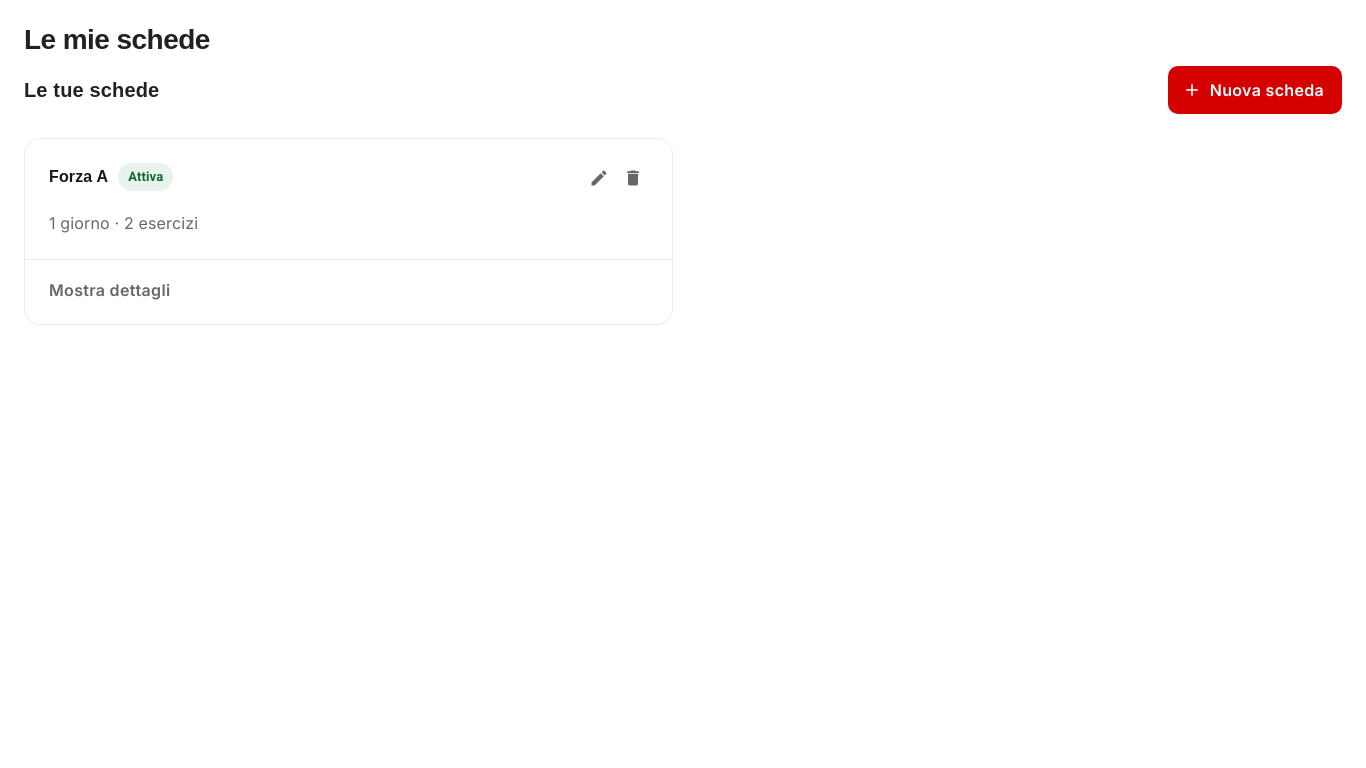
Test: giorno aperto › Modifica ed Elimina di ogni esercizio sono grigi come le frecce, non rosso
Step 1. Click the button "Mostra dettagli" → point(110, 290), box [49, 276, 170, 304]
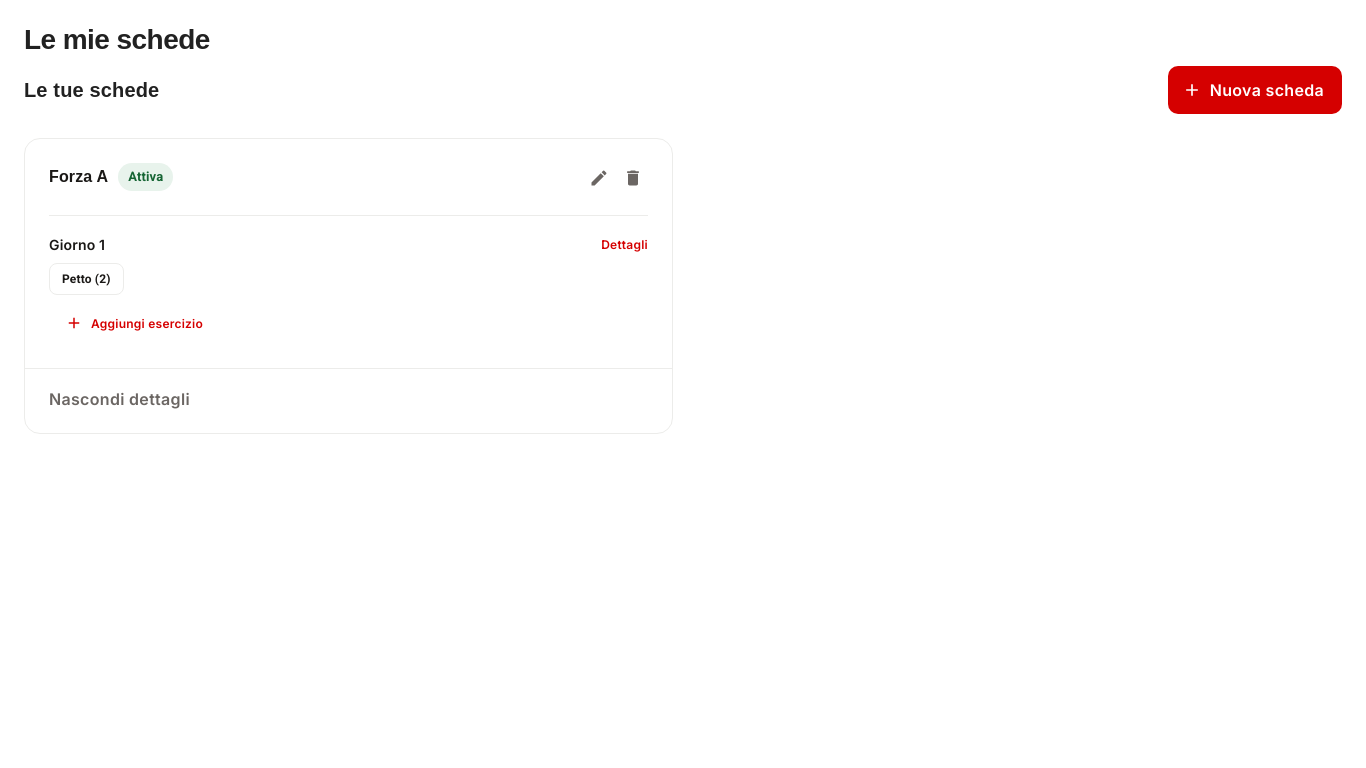
Step 2. Click the button "Dettagli" → point(625, 244), box [601, 234, 648, 255]
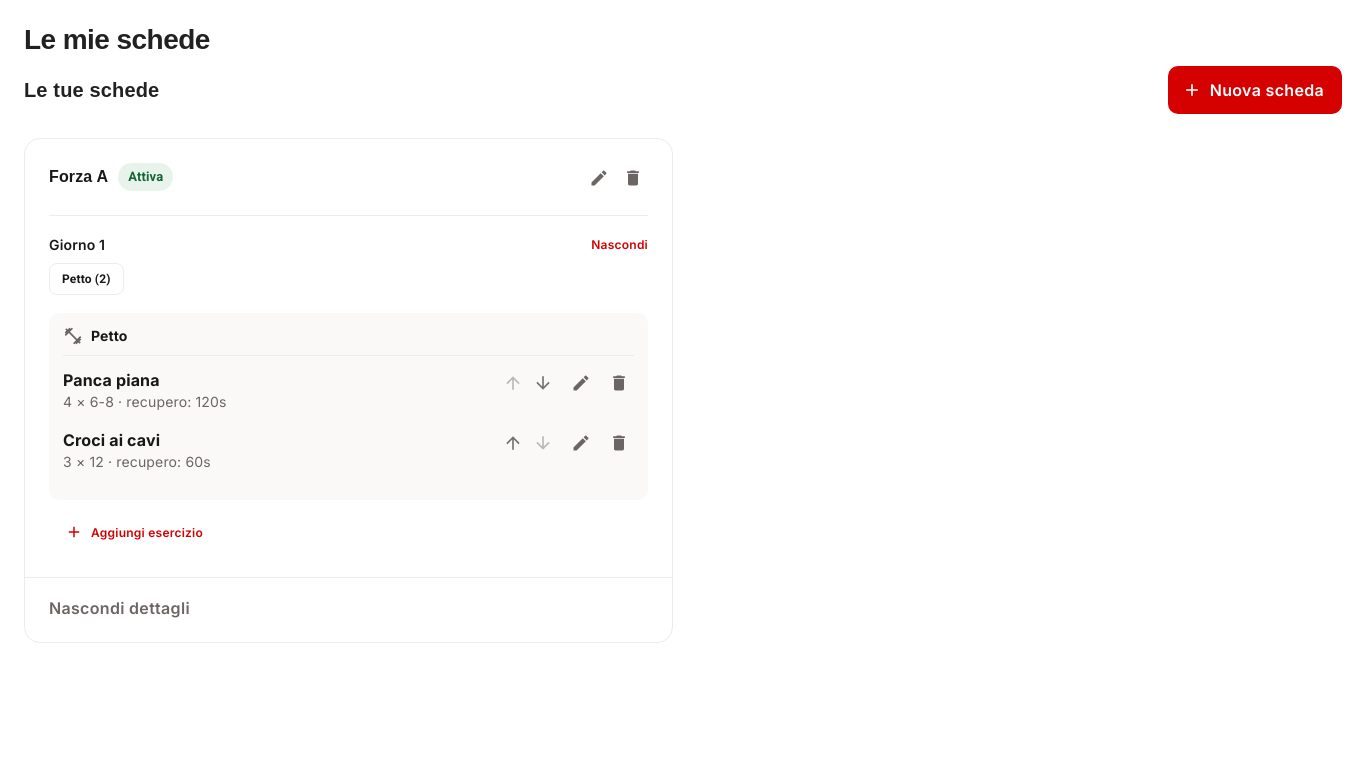
expect the text "Panca piana" is shown: met, box [63, 370, 160, 390]
expect the number of buttons named "Modifica esercizio" is 2: met, box [566, 368, 596, 398]; [566, 428, 596, 458]
expect the number of buttons named "Elimina esercizio" is 2: met, box [604, 368, 634, 398]; [604, 428, 634, 458]
